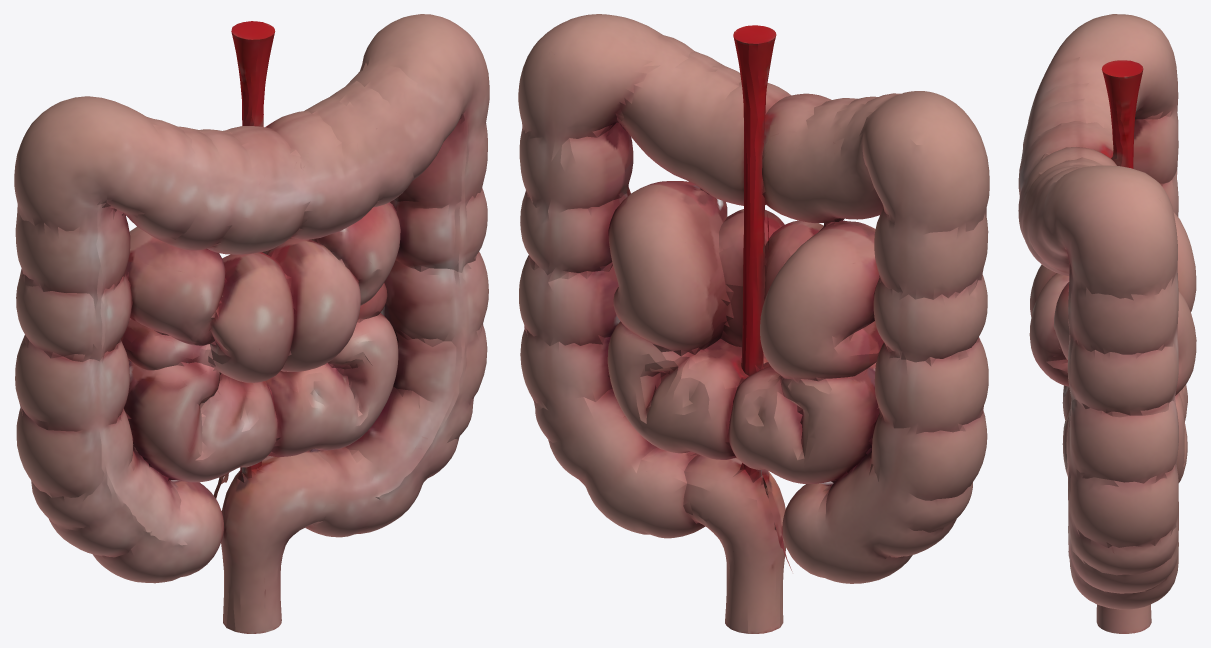
The model's file is dog_intestines.glb.
3 views of the same model, side by side, from view 1: azimuth 30°, elevation 25°; view 2: azimuth 150°, elevation 25°; view 3: azimuth 270°, elevation 25° (orthographic). The views are drawn at different scales.
Parts seen in each view (by area): view 1: model; view 2: model; view 3: model.
Boxes of the visible parts, x1=… form: model: x1=14, y1=14, x2=489, y2=633; model: x1=518, y1=14, x2=989, y2=633; model: x1=1018, y1=14, x2=1196, y2=633.
Bounding box in the file's own units: 1.55 × 1.9 × 0.554.
1 material, 1 textured.
